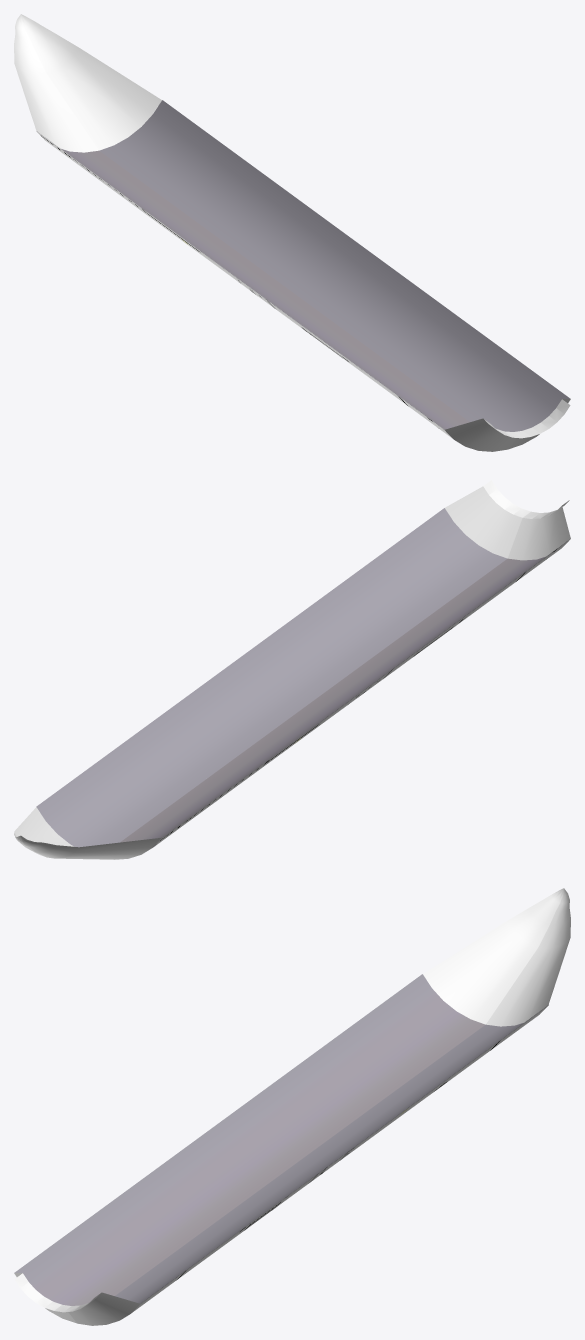
Rendered from fairing615c.obj.
The picture shows the model from 3 angles, top to bottom: view 1: azimuth 30°, elevation 25°; view 2: azimuth 150°, elevation 25°; view 3: azimuth 330°, elevation 25°; orthographic projection.
Visible parts, largest first — view 1: group0, group1; view 2: group0, group1; view 3: group0, group1.
Part boxes in pixels (x1,y1,x2,y2): group0: (14, 14, 570, 438); group1: (14, 52, 570, 451); group0: (14, 480, 570, 859); group1: (14, 500, 570, 859); group0: (14, 888, 570, 1312); group1: (14, 926, 570, 1325).
Bounding box in the file's own units: 4.17 × 2.5 × 29.07.
2 materials, 2 textured.
